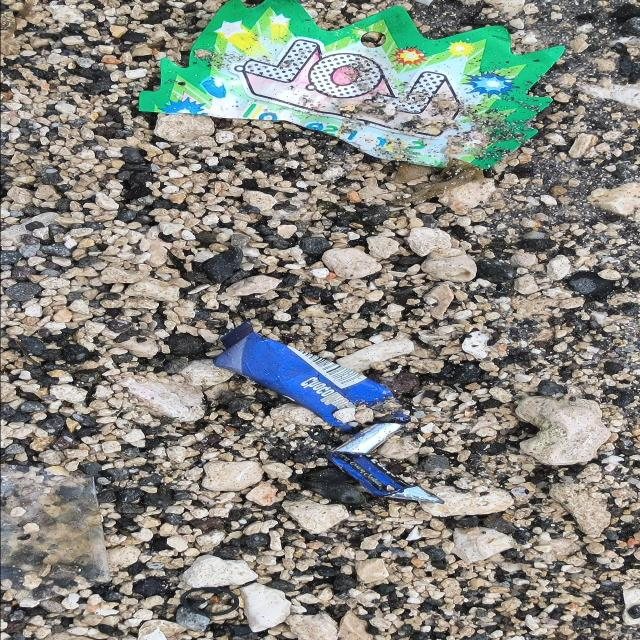plastic_waste: (137, 1, 569, 169), (213, 322, 445, 506)
